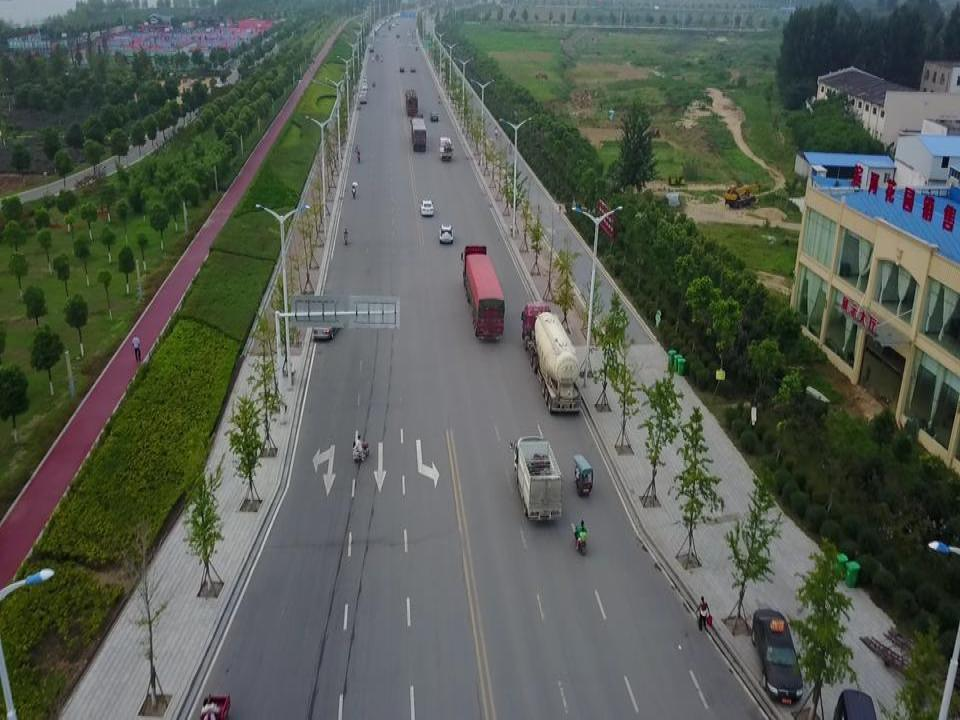car: (751, 609, 803, 704), (313, 309, 344, 343), (439, 223, 454, 244), (420, 199, 434, 217), (429, 111, 439, 121), (359, 95, 367, 104), (410, 65, 415, 72), (399, 67, 404, 72)
truck: (520, 302, 581, 414), (509, 436, 563, 523), (460, 243, 505, 341), (410, 113, 426, 152), (405, 89, 418, 116), (439, 138, 453, 162)
van: (833, 689, 877, 720)
